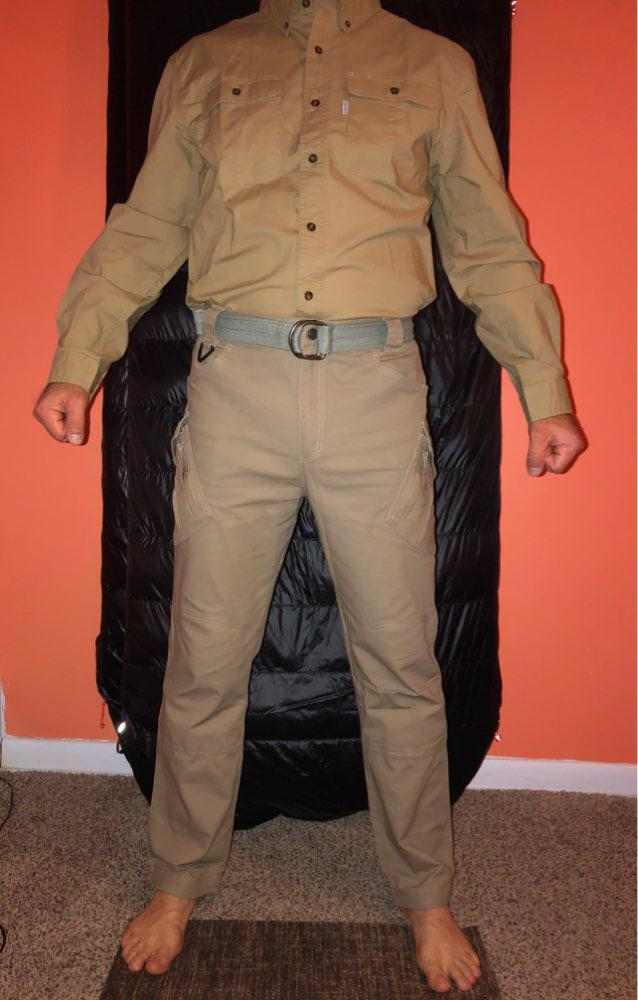pants: (156, 310, 453, 919)
